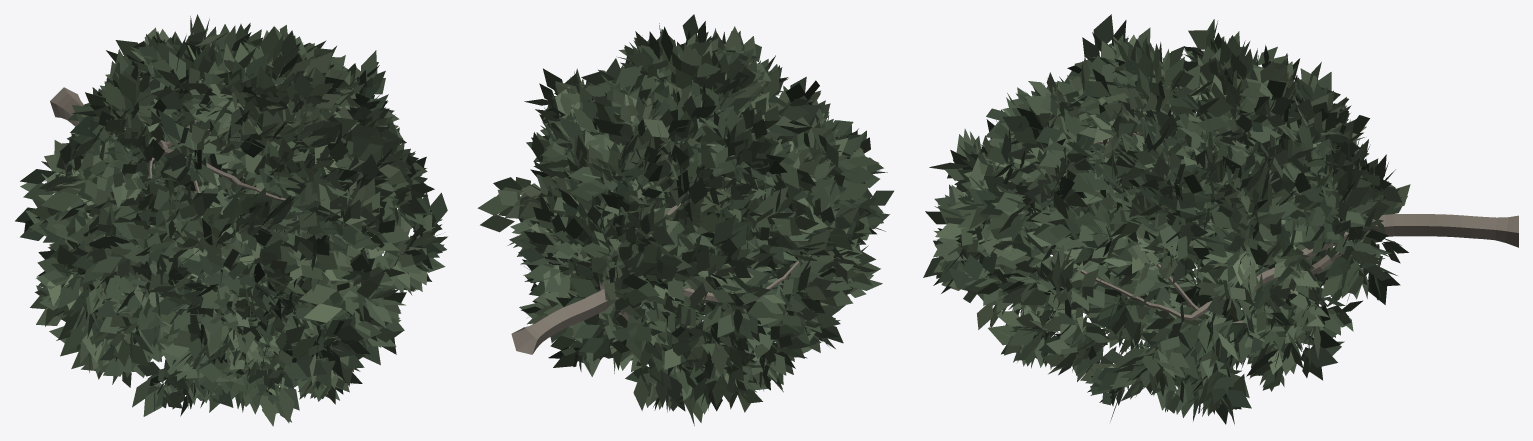
Rendered from tree_mid_07.obj.
3 views of the same model, side by side, from view 1: azimuth 30°, elevation 25°; view 2: azimuth 150°, elevation 25°; view 3: azimuth 270°, elevation 25° (orthographic). The views are drawn at different scales.
Visible parts, largest first — view 1: tree_mid_07; view 2: tree_mid_07; view 3: tree_mid_07.
Boxes of the visible parts, x1,y1,x2,y2 form: tree_mid_07: [15, 14, 447, 426]; tree_mid_07: [477, 14, 893, 425]; tree_mid_07: [923, 14, 1518, 424].
Bounding box in the file's own units: 0.7351 × 0.7444 × 1.02.
1 material, 1 textured.
